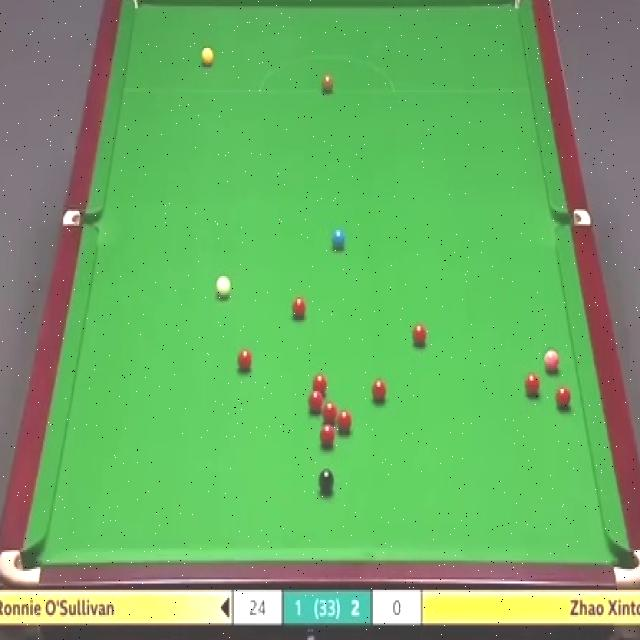black-ball: (319, 468, 335, 493)
blue-ball: (333, 227, 345, 250)
brown-ball: (320, 74, 336, 93)
pink-ball: (543, 348, 560, 372)
red-ball: (372, 377, 389, 405), (555, 386, 573, 410), (236, 346, 252, 371), (337, 408, 352, 434), (524, 372, 539, 398), (412, 322, 427, 347), (291, 298, 308, 320), (309, 390, 323, 416), (323, 404, 339, 426), (312, 374, 326, 397), (320, 424, 334, 447)
white-ball: (215, 274, 232, 300)
yellow-ball: (200, 46, 214, 68)
